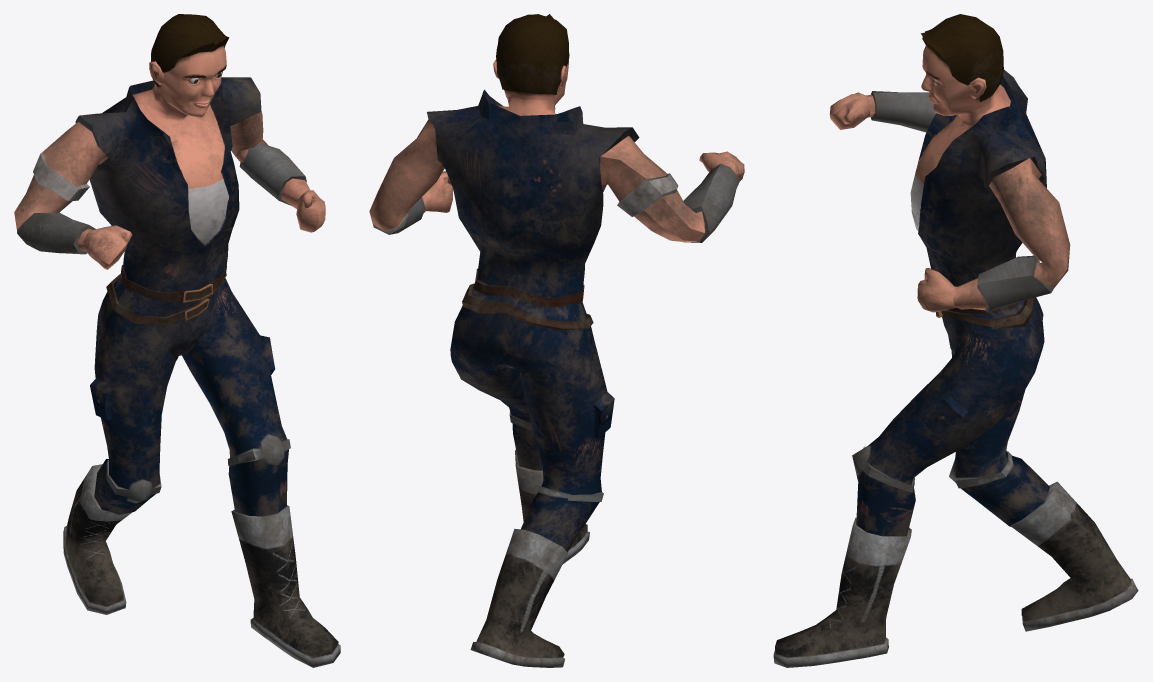
The model's file is Anim_ataque_d1_jugador.0026.obj.
3 views of the same model, side by side, from view 1: azimuth 30°, elevation 25°; view 2: azimuth 150°, elevation 25°; view 3: azimuth 270°, elevation 25° (orthographic). The views are drawn at different scales.
Visible parts, largest first — view 1: polySurface1; view 2: polySurface1; view 3: polySurface1.
Part boxes in pixels (x1,y1,x2,y2): polySurface1: [14, 14, 340, 667]; polySurface1: [369, 14, 744, 667]; polySurface1: [773, 14, 1138, 667].
Bounding box in the file's own units: 4.81 × 9.26 × 4.84.
